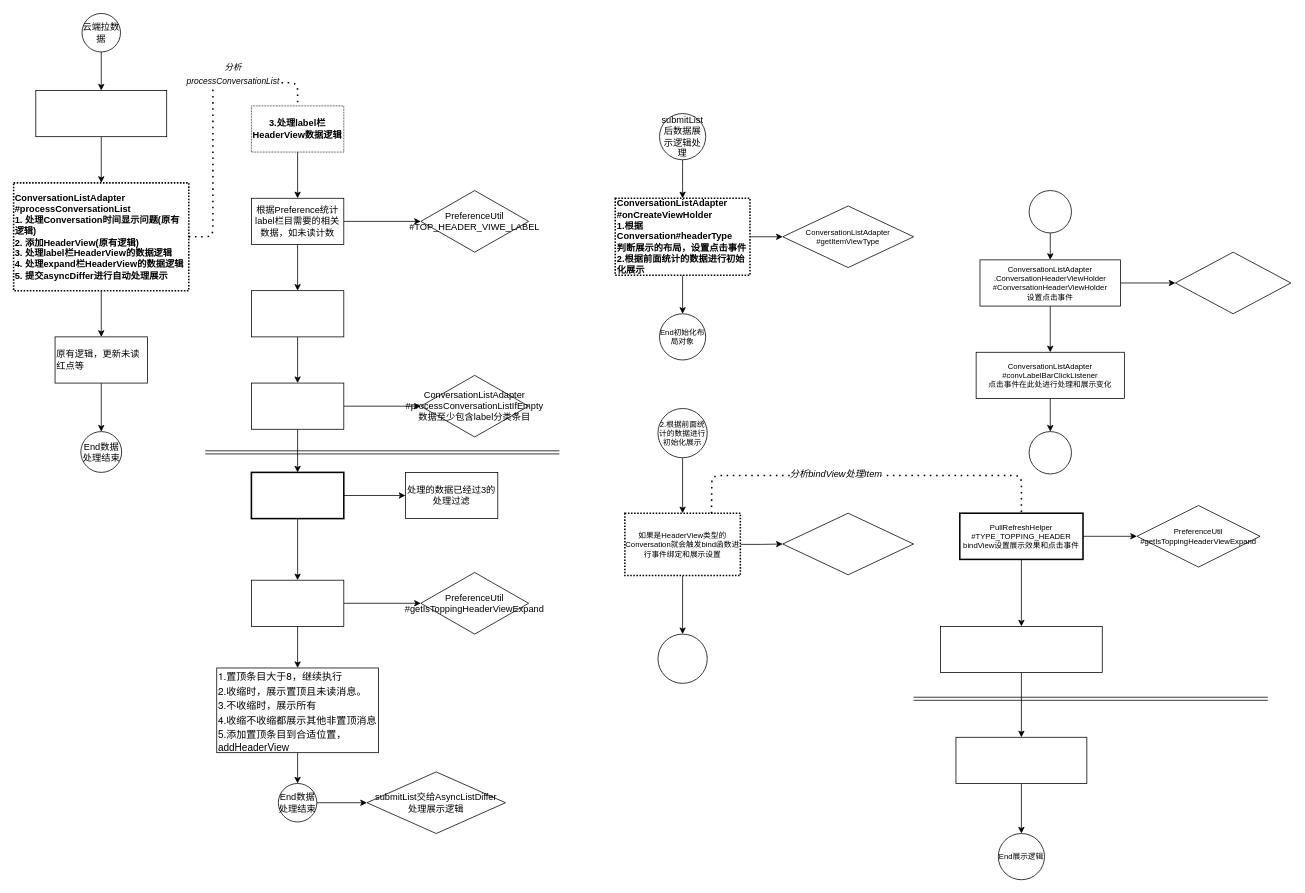
This 1305x893 diagram has some shape labels left out. Here are the shapes that lost their labels. From the top down, the box of each, then its label:
(35, 90, 167, 137): 分类展示逻辑 从ConversationListAdapter #submitList(list, int) 开始分析
(1028, 190, 1071, 233): 1.设置点击事件
(1175, 251, 1291, 314): PullRefreshHelper #TYPE_LABEL_HEADER
(251, 290, 344, 337): 过滤List，得到需要展示的全新List
(251, 382, 344, 429): 统一处理List数据异常(此处主要是空数据集)的情况，进行UI的更新
(1028, 431, 1071, 474): End点击事件设置
(250, 471, 344, 519): 4.处理expand栏目的数据逻辑
(782, 512, 914, 575): ConversationListAdapter #onBindViewHolder
(251, 579, 344, 626): 根据Preference确认上次退出软件展开与否的状态
(657, 633, 707, 683): End展示逻辑和数据处理
(940, 626, 1102, 673): ConversationListAdapter #setConvToppingHeaderView 收起和展示逻辑，收起状态下需要展示置顶收缩的条目
(955, 737, 1087, 783): PullRefreshHelper #TYPE_LABEL_HEADER 展示方法同上
